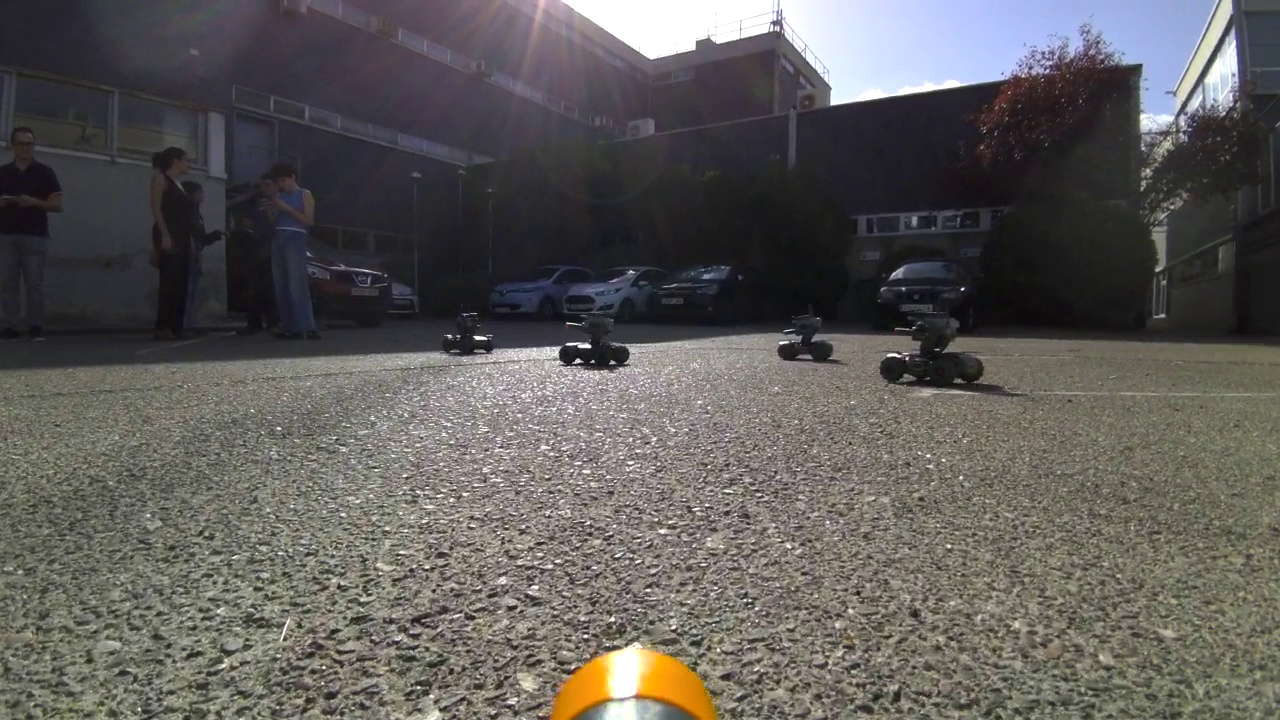robot: (873, 308, 987, 390), (552, 308, 635, 374), (778, 303, 842, 363), (442, 308, 498, 356)
